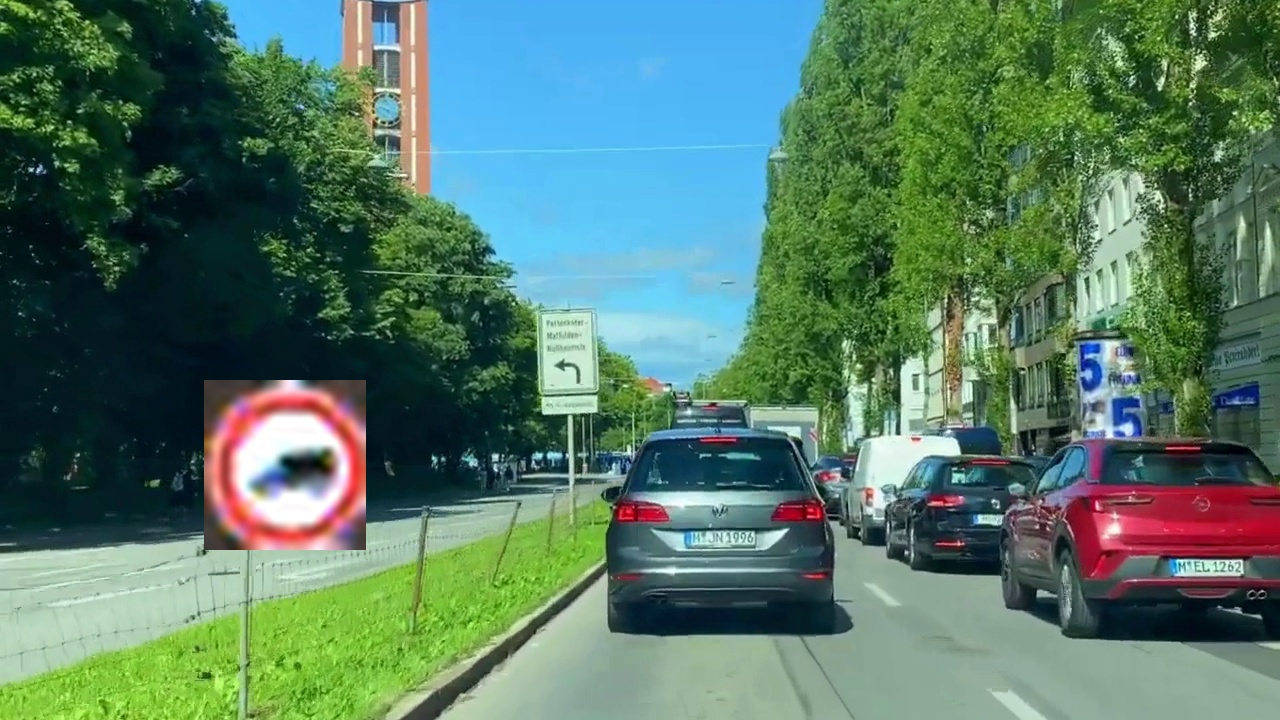Veh >3.5t prohib: (204, 380, 366, 550)
